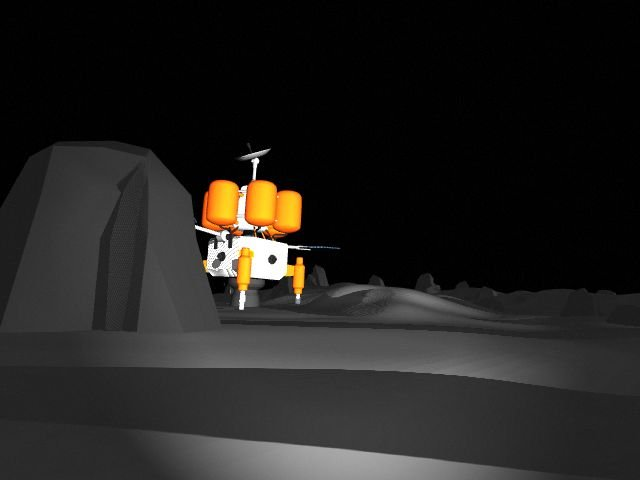homebase: (138, 140, 343, 320)
